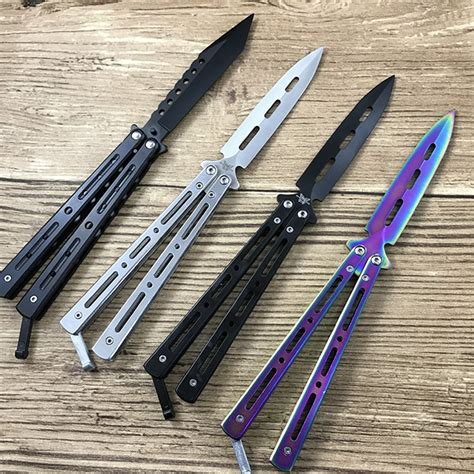knife: (218, 111, 458, 467), (142, 74, 396, 405), (62, 47, 323, 360), (1, 10, 253, 325)
